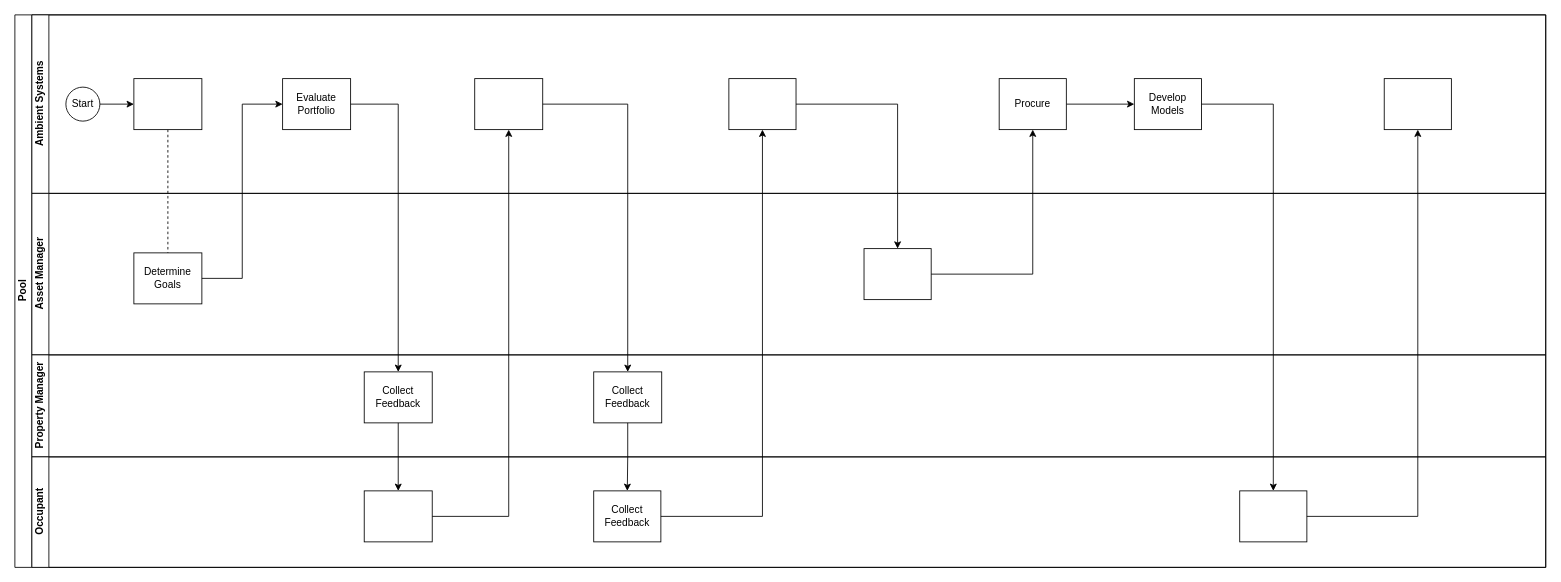
Image size: 1561x582. Some labels were removed from this diagram. The centre of each missing label's shape, as x and y in pixels:
"Establish Benchmark" goes at (x=167, y=104).
"Identify Opportunity" goes at (x=508, y=104).
"Proposal" goes at (x=762, y=104).
"Provide Feedback" goes at (x=397, y=516).
"Sign-off" goes at (x=897, y=274).
"Track Improvements" goes at (x=1417, y=104).
"Use" goes at (x=1273, y=516).
